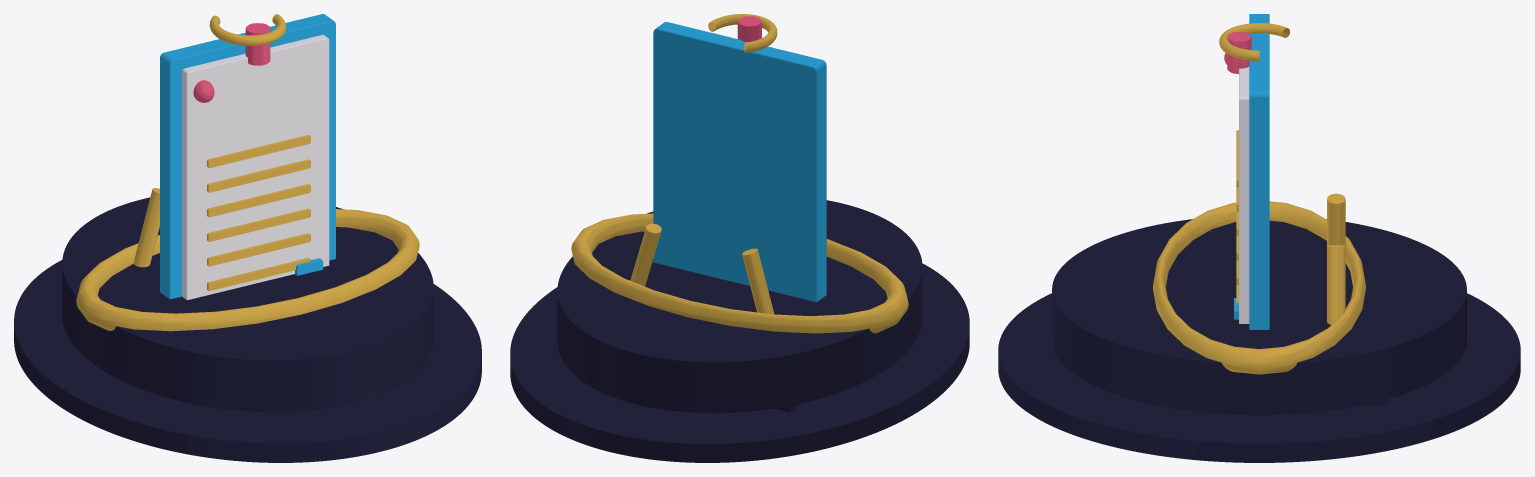
Rendered from 0859_生活中的数学图鉴_透光率测试仪.glb.
3 views of the same model, side by side, from view 1: azimuth 30°, elevation 25°; view 2: azimuth 150°, elevation 25°; view 3: azimuth 270°, elevation 25° (orthographic).
Parts seen in each view (by area): view 1: card_0859; view 2: card_0859; view 3: card_0859.
Boxes of the visible parts, left/top/right/bottom form: card_0859: left=14, top=14, right=481, bottom=462; card_0859: left=510, top=14, right=969, bottom=462; card_0859: left=998, top=14, right=1520, bottom=462.
Bounding box in the file's own units: 1.21 × 1 × 1.42.
